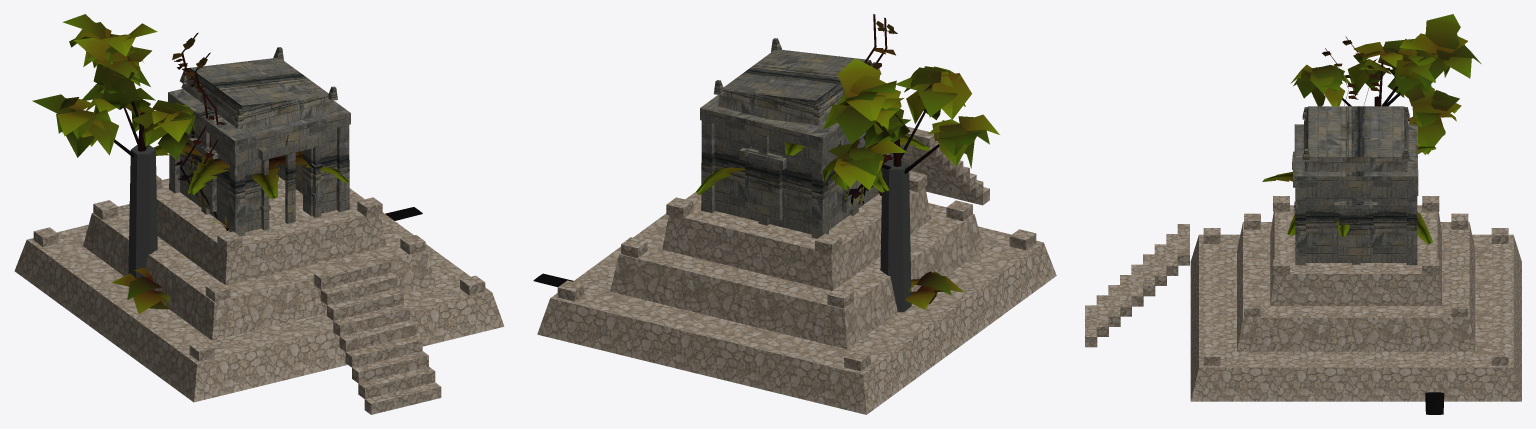
File: prasat_ruin_10.glb
The picture shows the model from 3 angles, left to right: view 1: azimuth 30°, elevation 25°; view 2: azimuth 150°, elevation 25°; view 3: azimuth 270°, elevation 25°; orthographic projection. The views are drawn at different scales.
Visible parts, largest first — view 1: prasat_ruin_10, prasat_ruin_10_veg_00_broadleaf_a, prasat_ruin_10-col, prasat_ruin_10_veg_11_palm_sapling_b, prasat_ruin_10_veg_09_bush_c, prasat_ruin_10_veg_04_trunk_vine_a, prasat_ruin_10_veg_03_trunk_vine_a; view 2: prasat_ruin_10, prasat_ruin_10_veg_00_broadleaf_a, prasat_ruin_10-col, prasat_ruin_10_veg_09_bush_c, prasat_ruin_10_veg_11_palm_sapling_b; view 3: prasat_ruin_10, prasat_ruin_10_veg_00_broadleaf_a, prasat_ruin_10_veg_11_palm_sapling_b, prasat_ruin_10_veg_12_fallen_log_b.
Boxes of the visible parts, x1,y1,x2,y2 form: prasat_ruin_10: [14, 47, 504, 414]; prasat_ruin_10_veg_00_broadleaf_a: [32, 14, 196, 160]; prasat_ruin_10-col: [128, 145, 157, 278]; prasat_ruin_10_veg_11_palm_sapling_b: [153, 137, 348, 198]; prasat_ruin_10_veg_09_bush_c: [111, 268, 170, 313]; prasat_ruin_10_veg_04_trunk_vine_a: [172, 32, 214, 197]; prasat_ruin_10_veg_03_trunk_vine_a: [186, 52, 226, 218]; prasat_ruin_10: [537, 38, 1056, 414]; prasat_ruin_10_veg_00_broadleaf_a: [822, 58, 999, 191]; prasat_ruin_10-col: [880, 160, 911, 312]; prasat_ruin_10_veg_09_bush_c: [905, 271, 963, 309]; prasat_ruin_10_veg_11_palm_sapling_b: [696, 134, 929, 195]; prasat_ruin_10: [1085, 106, 1521, 401]; prasat_ruin_10_veg_00_broadleaf_a: [1290, 14, 1481, 154]; prasat_ruin_10_veg_11_palm_sapling_b: [1262, 146, 1436, 244]; prasat_ruin_10_veg_12_fallen_log_b: [1425, 392, 1444, 414].
Bounding box in the file's own units: 12.42 × 8.58 × 12.83.
Materials: 12 (12 with a texture image).
